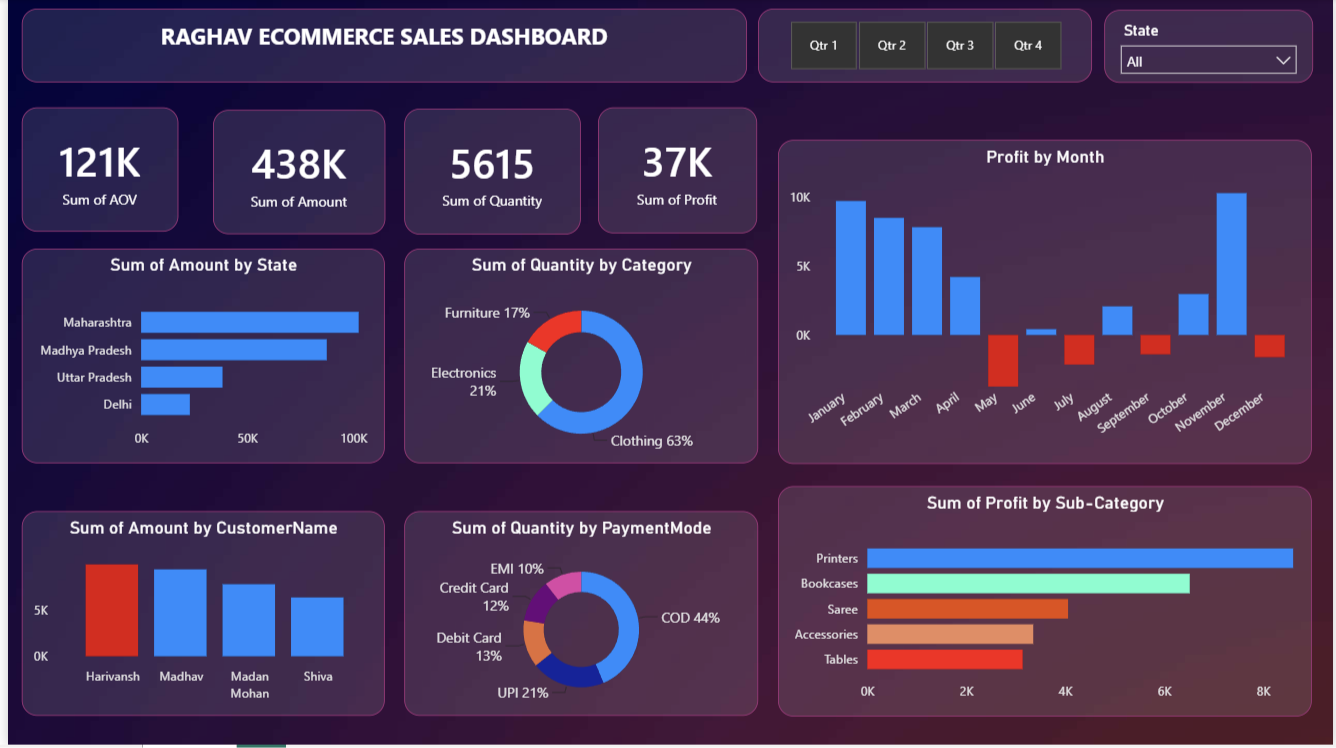

This screenshot's page, from the dashboard's own definition file:
{"tool":"powerbi","page":{"name":"Page 1","canvas":[1280,720],"ordinal":0},"visuals":[{"type":"textbox","box":[13.8,10,700,71.2],"z":0},{"type":"columnChart","title":"Profit by Month","fields":{"Category":["Orders.Order Date.Variation.Date Hierarchy.Month","Orders.Order Date.Variation.Date Hierarchy.Day"],"Y":["Sum(Details.Profit)"]},"box":[743.8,136.2,515,312.5],"z":1000},{"type":"barChart","fields":{"Category":["Details.Sub-Category"],"Y":["Sum(Details.Profit)"]},"box":[743.8,470,515,222.5],"z":2000},{"type":"donutChart","fields":{"Category":["Details.Category"],"Y":["Sum(Details.Quantity)"]},"box":[382.5,241.2,341.2,207.5],"z":3000},{"type":"donutChart","fields":{"Category":["Details.PaymentMode"],"Y":["Sum(Details.Quantity)"]},"box":[382.5,495,341.2,197.5],"z":4000},{"type":"cardVisual","fields":{"Data":["Sum(Details.Amount)"]},"box":[197.5,107.5,166.2,120],"z":5000},{"type":"cardVisual","fields":{"Data":["Sum(Details.Quantity)"]},"box":[382.5,106.2,170,121.2],"z":6000},{"type":"cardVisual","fields":{"Data":["Sum(Details.Profit)"]},"box":[570,105,153.8,121.2],"z":7000},{"type":"cardVisual","fields":{"Data":["Sum(Details.AOV)"]},"box":[13.8,105,151.2,120],"z":8000},{"type":"barChart","fields":{"Category":["Orders.State"],"Y":["Sum(Details.Amount)"]},"box":[13.8,241.2,350,207.5],"z":9000},{"type":"columnChart","fields":{"Y":["Sum(Details.Amount)"],"Category":["Orders.CustomerName"]},"box":[13.8,495,350,197.5],"z":10000},{"type":"slicer","fields":{"Values":["Orders.Order Date.Variation.Date Hierarchy.Quarter"]},"box":[723.8,10,322.5,71.2],"z":11000},{"type":"slicer","fields":{"Values":["Orders.State"]},"box":[1057.5,11.2,201.2,70],"z":12000}]}

Visuals, with their boxes in screenshot pixels (x1, y1, x2, y2), scaled from the page's 1280x720 canvas onto the 1336x748 screenshot:
textbox: [x1=14, y1=10, x2=745, y2=84]
"Profit by Month" columnChart: [x1=776, y1=141, x2=1314, y2=466]
barChart - Details.Sub-Category x Sum(Details.Profit): [x1=776, y1=488, x2=1314, y2=719]
donutChart - Details.Category x Sum(Details.Quantity): [x1=399, y1=251, x2=755, y2=466]
donutChart - Details.PaymentMode x Sum(Details.Quantity): [x1=399, y1=514, x2=755, y2=719]
cardVisual - Sum(Details.Amount): [x1=206, y1=112, x2=380, y2=236]
cardVisual - Sum(Details.Quantity): [x1=399, y1=110, x2=577, y2=236]
cardVisual - Sum(Details.Profit): [x1=595, y1=109, x2=755, y2=235]
cardVisual - Sum(Details.AOV): [x1=14, y1=109, x2=172, y2=234]
barChart - Orders.State x Sum(Details.Amount): [x1=14, y1=251, x2=380, y2=466]
columnChart - Sum(Details.Amount) x Orders.CustomerName: [x1=14, y1=514, x2=380, y2=719]
slicer - Orders.Order Date.Variation.Date Hierarchy.Quarter: [x1=755, y1=10, x2=1092, y2=84]
slicer - Orders.State: [x1=1104, y1=12, x2=1314, y2=84]
